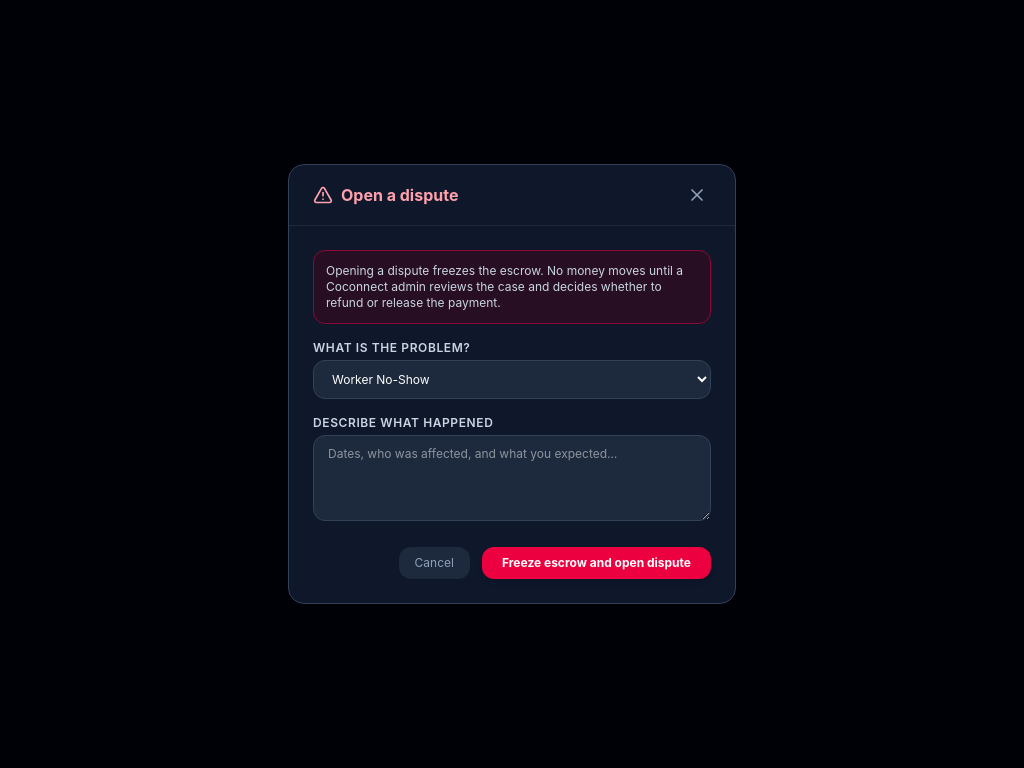
Test: OpenDisputeModal › asks for a real description before freezing anything
In the text box with test id "dispute-description": (512,478) 313,435 -> 711,521, type "short"
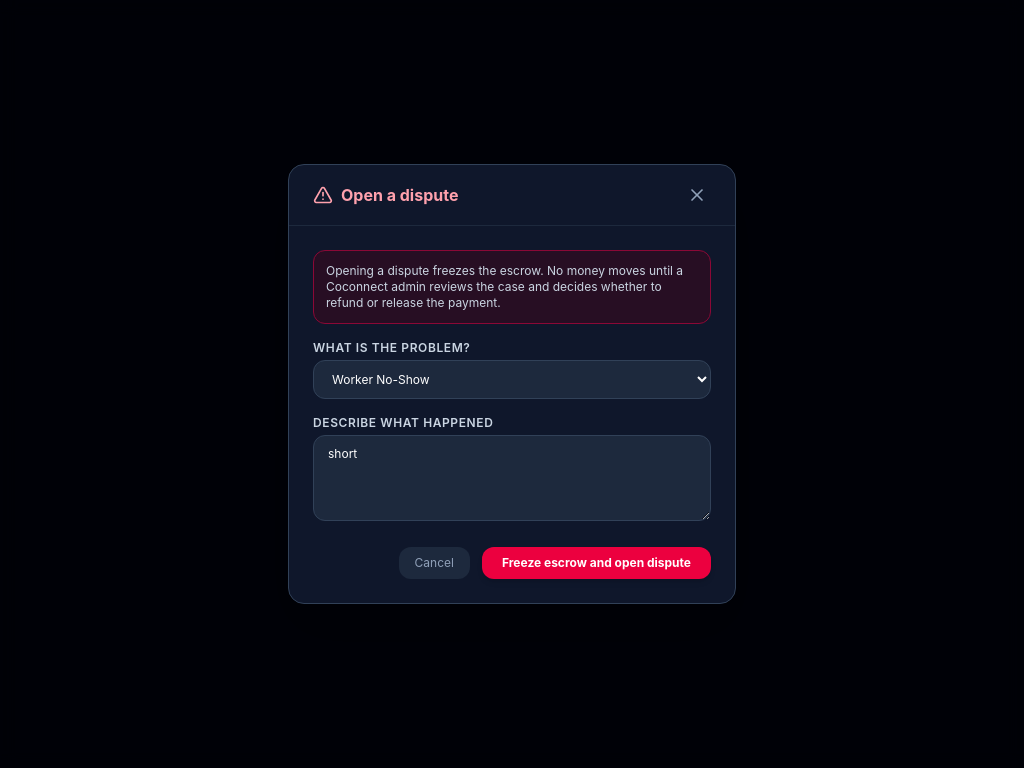
Click the button with test id "dispute-submit": (596,563) 482,547 -> 711,579
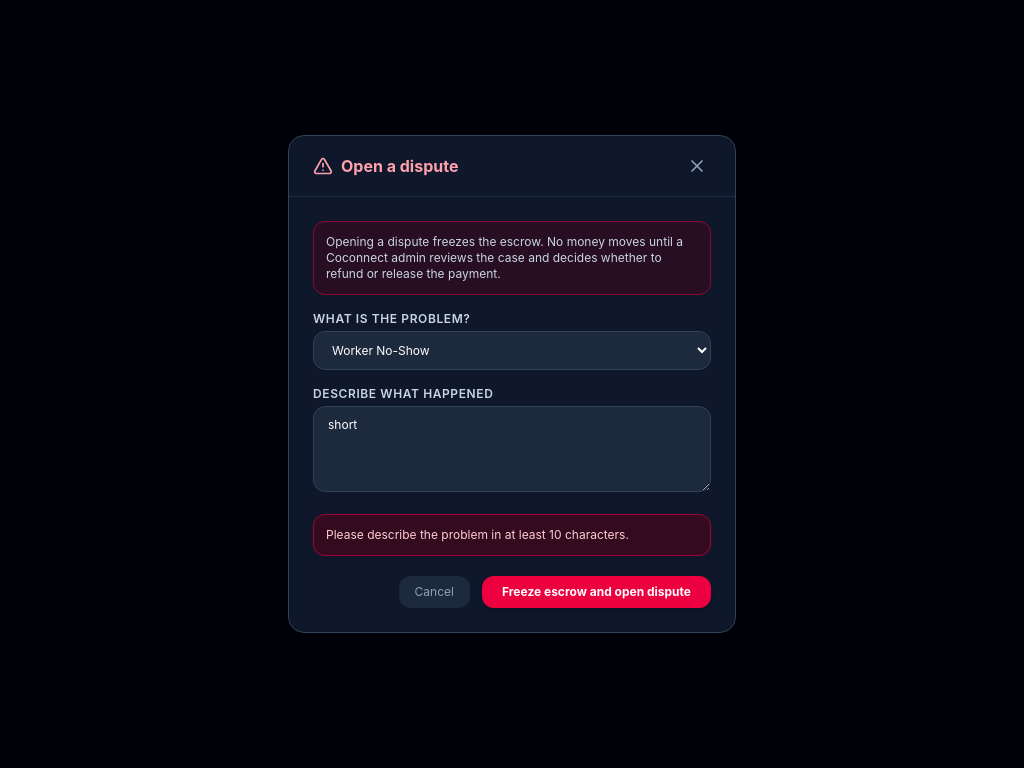
Now the message reads "Please describe the problem in at least 10 characters.", box 326,527 -> 629,542
